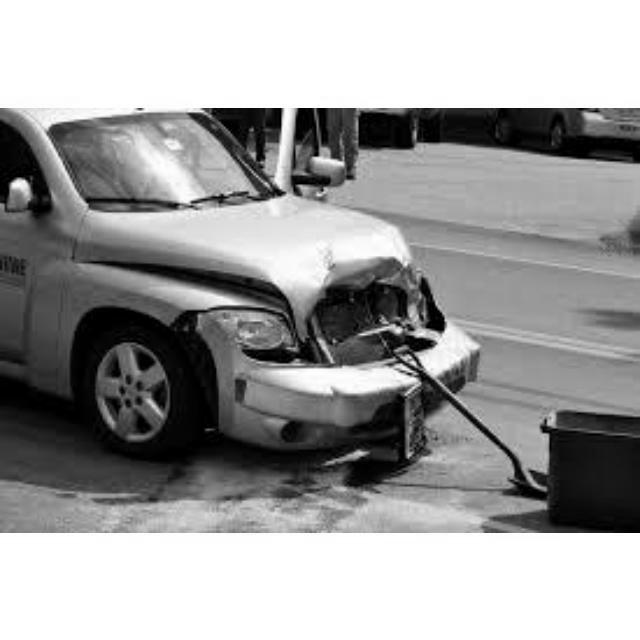bonnet-dent: (196, 203, 407, 300)
front-bumper-dent: (250, 359, 457, 447)
